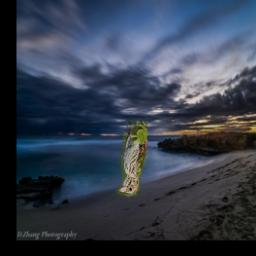Sparrow: (116, 122, 147, 199)
